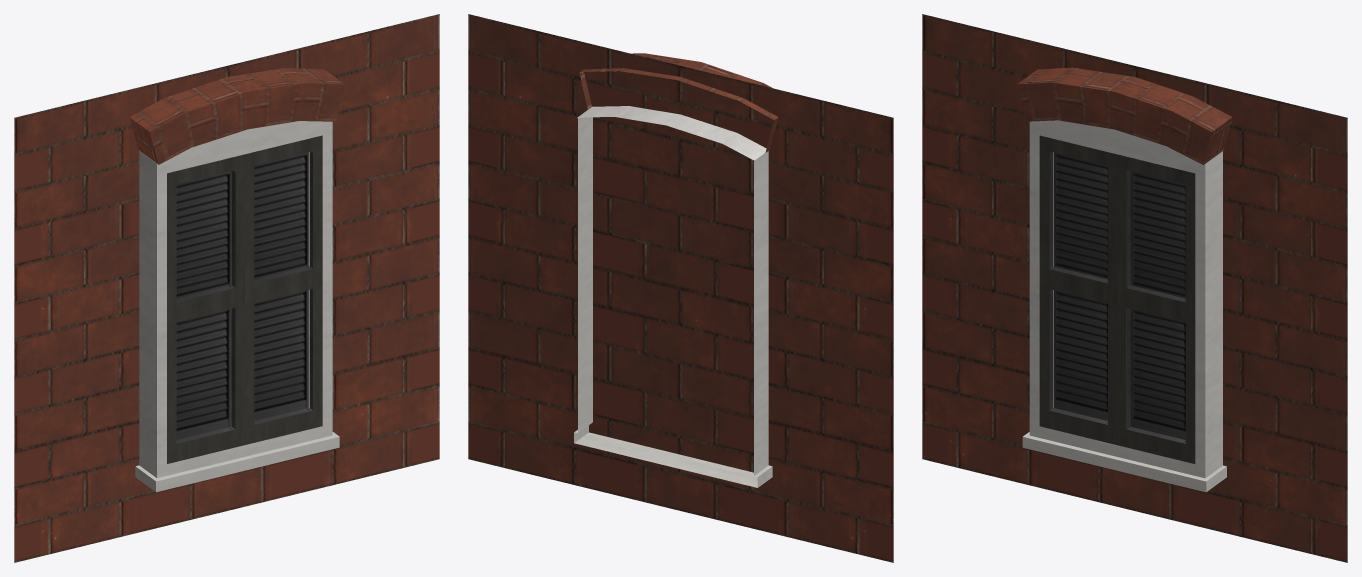
Rendered from BRICK_WINDOW_CLOSE_THREE_BY_THREE.fbx.
3 renders of one model, left to right at view 1: azimuth 30°, elevation 25°; view 2: azimuth 150°, elevation 25°; view 3: azimuth 330°, elevation 25°, orthographic.
Visible parts, largest first — view 1: Brick_WINDOW_CLOSE_THREE_BY_THREE2; view 2: Brick_WINDOW_CLOSE_THREE_BY_THREE2; view 3: Brick_WINDOW_CLOSE_THREE_BY_THREE2.
Part boxes in pixels (box(x1,y1,x2,y2)): Brick_WINDOW_CLOSE_THREE_BY_THREE2: box(14, 14, 439, 562); Brick_WINDOW_CLOSE_THREE_BY_THREE2: box(468, 14, 893, 562); Brick_WINDOW_CLOSE_THREE_BY_THREE2: box(922, 14, 1347, 562).
Bounding box in the file's own units: 3 × 3 × 0.4351.
